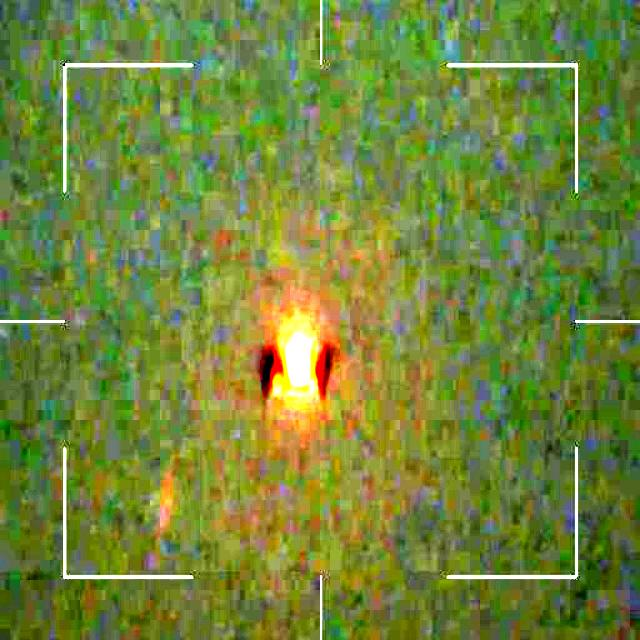bird: (260, 316, 335, 409)
